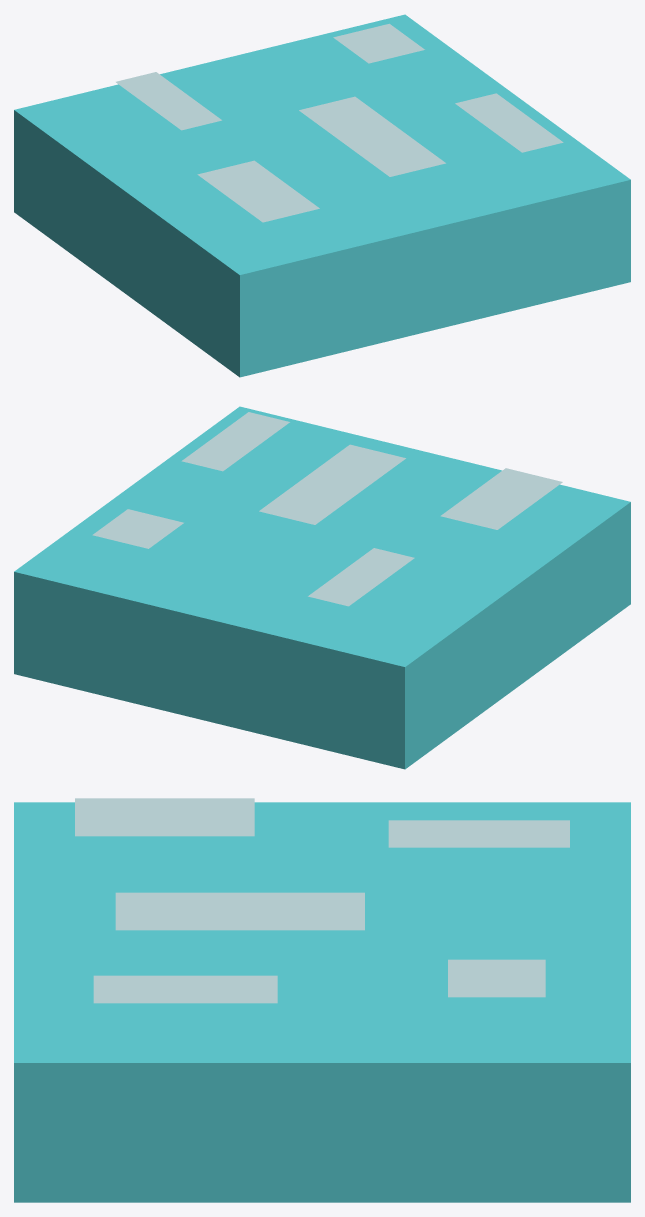
File: water2.fbx
The picture shows the model from 3 angles, top to bottom: view 1: azimuth 30°, elevation 25°; view 2: azimuth 150°, elevation 25°; view 3: azimuth 270°, elevation 25°; orthographic projection. The views are drawn at different scales.
Parts seen in each view (by area): view 1: water2; view 2: water2; view 3: water2.
Boxes of the visible parts, x1=… form: water2: x1=14, y1=14, x2=630, y2=377; water2: x1=14, y1=406, x2=630, y2=769; water2: x1=14, y1=798, x2=630, y2=1202.
Bounding box in the file's own units: 200 × 62.27 × 200.
